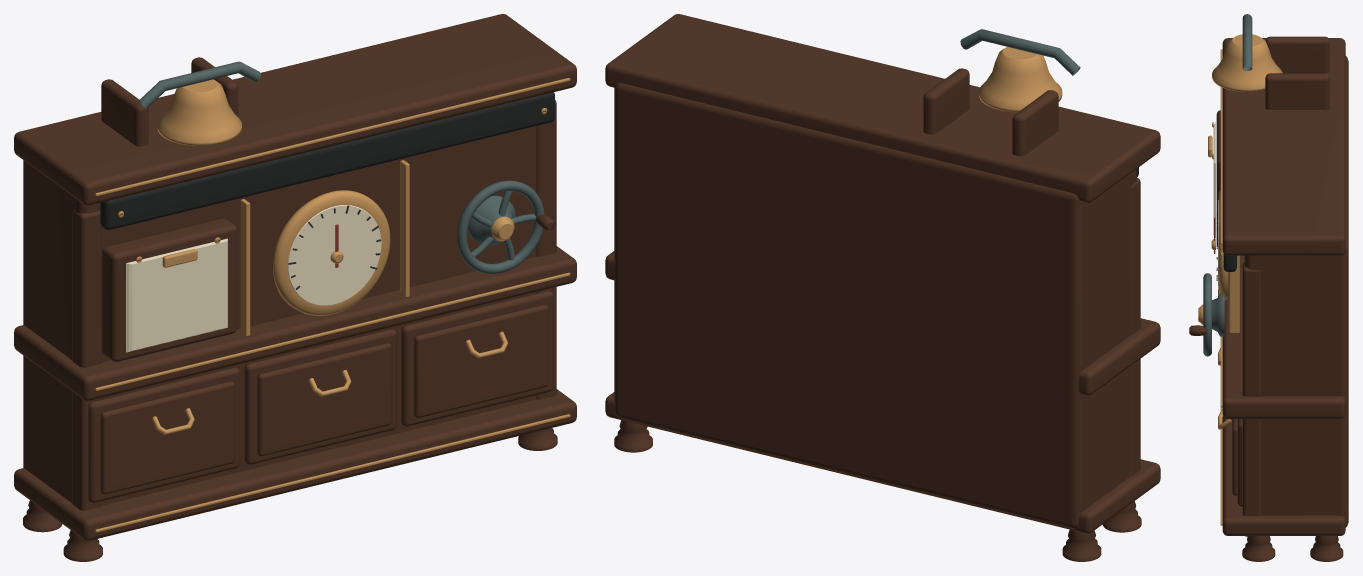
Rendered from meridian.glb.
3 renders of one model, left to right at view 1: azimuth 30°, elevation 25°; view 2: azimuth 150°, elevation 25°; view 3: azimuth 270°, elevation 25°, orthographic. The views are drawn at different scales.
Visible parts, largest first — view 1: Carcass, Projecting moulded rail.002, Projecting moulded rail.001, Projecting moulded rail, Cast header plate, Fielded walnut panel.001, Fielded walnut panel, Fielded walnut panel.002, Deckled folio leaf.004, Pressure enamel face, Dovetailed document tray, Ebonised stile (+19 smaller); view 2: Carcass, Projecting moulded rail.002, Cast Observatory bell, Projecting moulded rail, Ebonised stile, Projecting moulded rail.001, Bell bracket.001, Bell bracket, Wrought suspension rod, Turned pilaster foot.001, Turned pilaster foot.003, Turned pilaster foot; view 3: Carcass, Projecting moulded rail.002, Projecting moulded rail.001, Ebonised stile.001, Projecting moulded rail, Cast Observatory bell, Bell bracket.001, Bell bracket, Station divider.001, Turned pilaster foot.003, Turned pilaster foot.002, Cast handwheel rim (+9 smaller).
Part boxes in pixels (box(x1,y1,x2,y2)): Carcass: box(23, 126, 536, 505); Projecting moulded rail.002: box(14, 14, 576, 205); Projecting moulded rail.001: box(14, 246, 576, 400); Projecting moulded rail: box(14, 389, 576, 540); Cast header plate: box(100, 92, 554, 229); Fielded walnut panel.001: box(257, 343, 391, 456); Fielded walnut panel: box(100, 381, 234, 494); Fielded walnut panel.002: box(414, 304, 548, 417); Deckled folio leaf.004: box(131, 241, 227, 350); Pressure enamel face: box(287, 205, 381, 305); Dovetailed document tray: box(102, 218, 236, 361); Ebonised stile: box(72, 210, 101, 510); Carcass: box(614, 83, 1136, 529); Projecting moulded rail.002: box(605, 14, 1160, 202); Cast Observatory bell: box(979, 46, 1062, 112); Projecting moulded rail: box(605, 392, 1160, 533); Ebonised stile: box(1130, 178, 1140, 476); Projecting moulded rail.001: box(605, 251, 1160, 395); Bell bracket.001: box(923, 68, 969, 134); Bell bracket: box(1012, 90, 1058, 156); Wrought suspension rod: box(960, 29, 1080, 75); Turned pilaster foot.001: box(1062, 529, 1101, 561); Turned pilaster foot.003: box(614, 420, 652, 452); Turned pilaster foot: box(1102, 501, 1141, 532); Carcass: box(1244, 56, 1348, 527); Projecting moulded rail.002: box(1222, 38, 1345, 255); Projecting moulded rail.001: box(1222, 255, 1345, 418); Ebonised stile.001: box(1242, 262, 1260, 536); Projecting moulded rail: box(1222, 416, 1345, 535); Cast Observatory bell: box(1212, 34, 1282, 91); Bell bracket.001: box(1265, 73, 1329, 109); Bell bracket: box(1265, 36, 1329, 73); Station divider.001: box(1229, 255, 1239, 332); Turned pilaster foot.003: box(1310, 536, 1343, 561); Turned pilaster foot.002: box(1242, 536, 1275, 561); Cast handwheel rim: box(1203, 273, 1211, 356).
Bounding box in the file's own units: 2.52 × 2.24 × 0.842.
